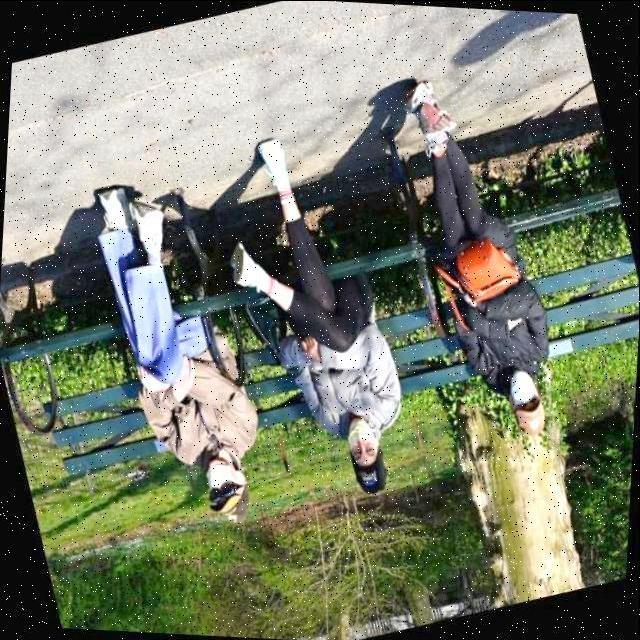apron: (171, 352, 203, 400), (132, 364, 166, 398)
